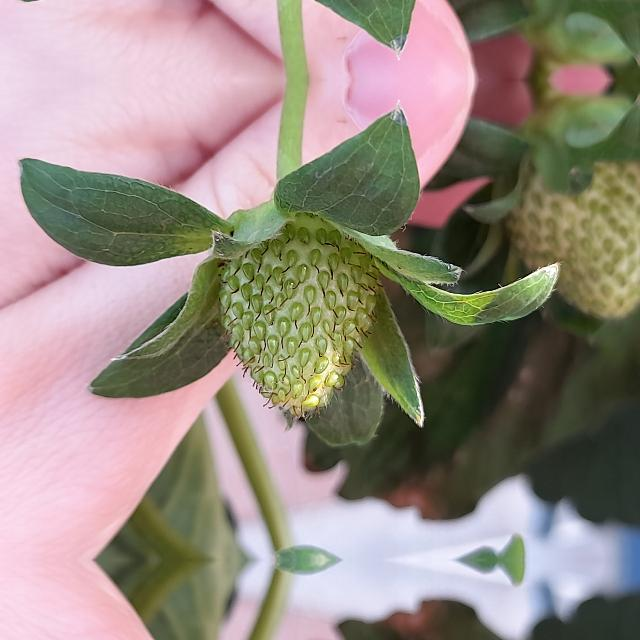Health_25: (217, 215, 383, 421)
